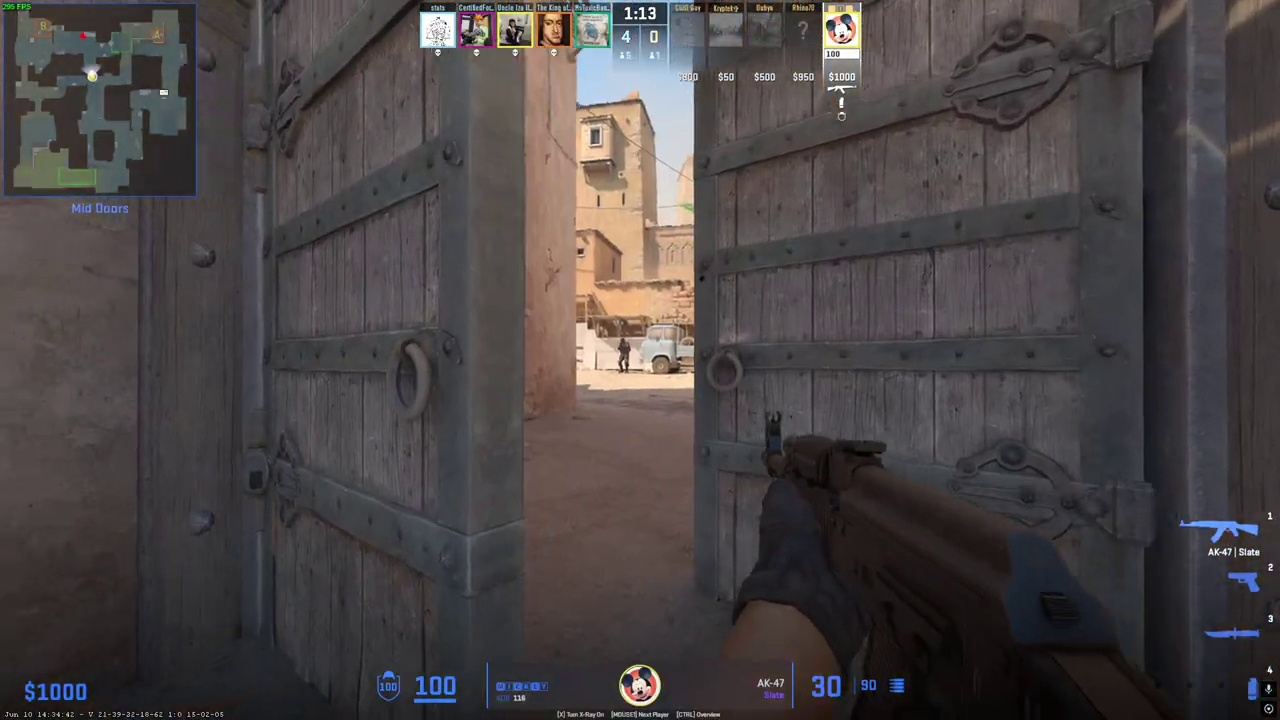CT: (617, 338, 630, 373)
